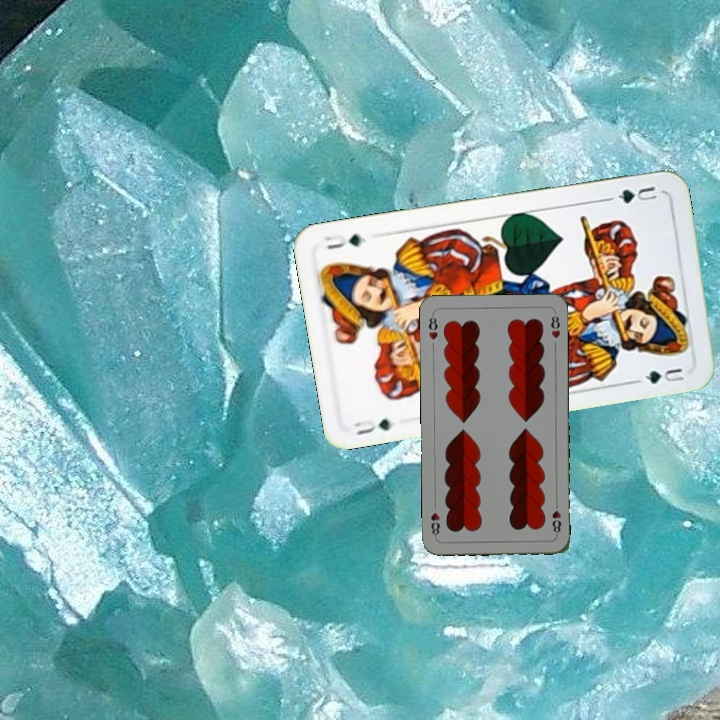GU: (604, 182, 660, 206), (350, 414, 395, 438)
H8: (548, 497, 563, 538), (425, 310, 440, 342)
